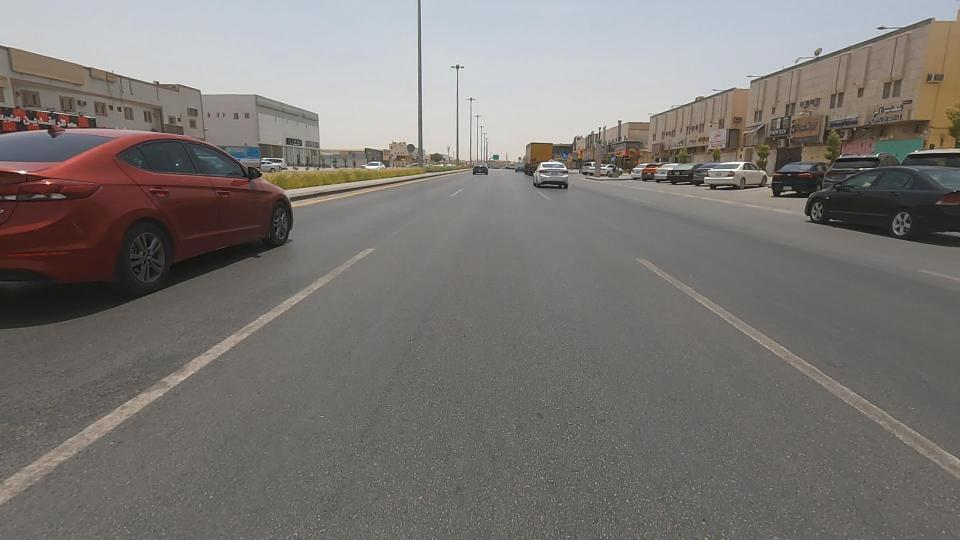BAD_BILLBOARD: (719, 101, 785, 168)
